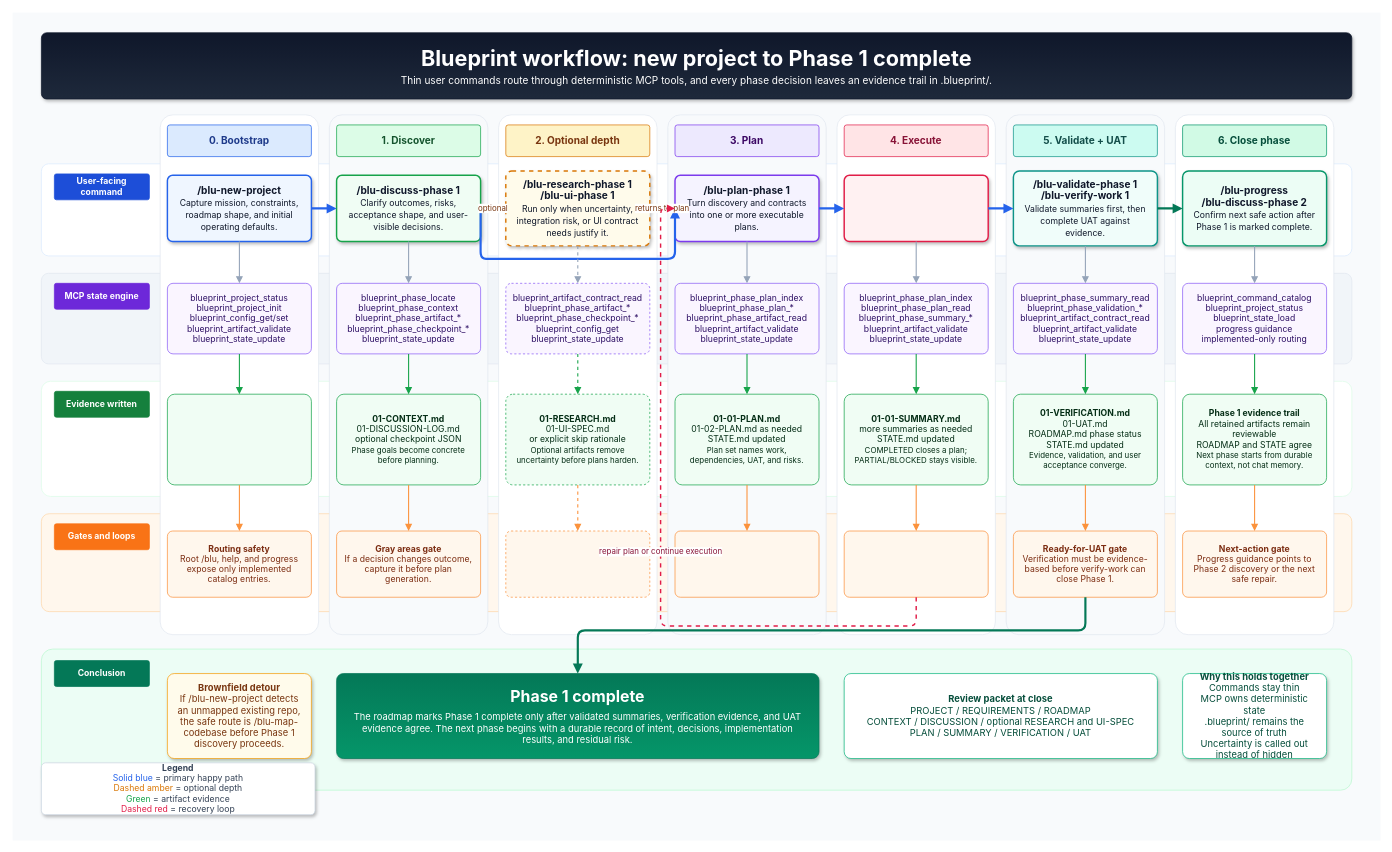
The diagram is 1392 pixels wide and 852 high, and some of its shapes have lost their labels. Each missing label, with the centre of its shape:
".blueprint/ root PROJECT.md REQUIREMENTS.md ROADMAP.md STATE.md config.json" belongs at [239,439].
"/blu-execute-phase 1 Execute the plan set and persist implementation evidence." belongs at [916,209].
"Optional fork Research unclear risks; write UI-SPEC only for UI-heavy work." belongs at [577,563].
"Plan reuse gate If plans exist, choose reuse, revise, or replace before writing." belongs at [746,563].
"Recovery loop PARTIAL or BLOCKED summaries route back to plan or execution." belongs at [915,563].
